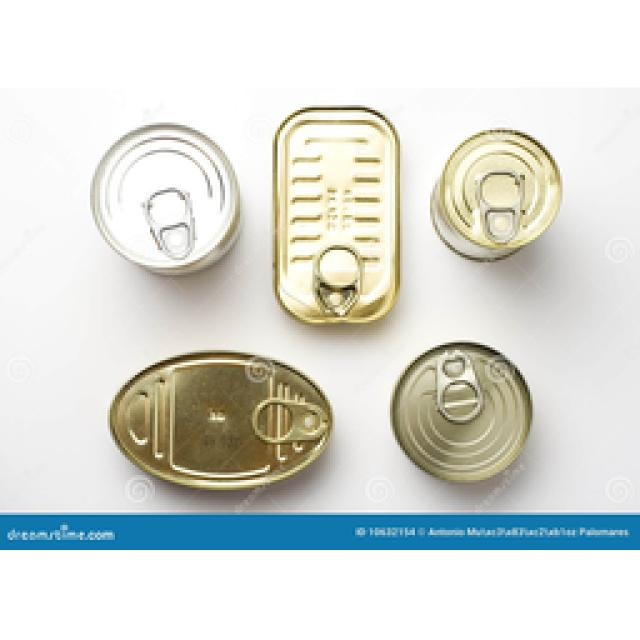alumunium: (110, 352, 328, 488), (272, 108, 398, 322), (90, 125, 238, 272), (390, 342, 530, 480), (430, 130, 558, 258)
